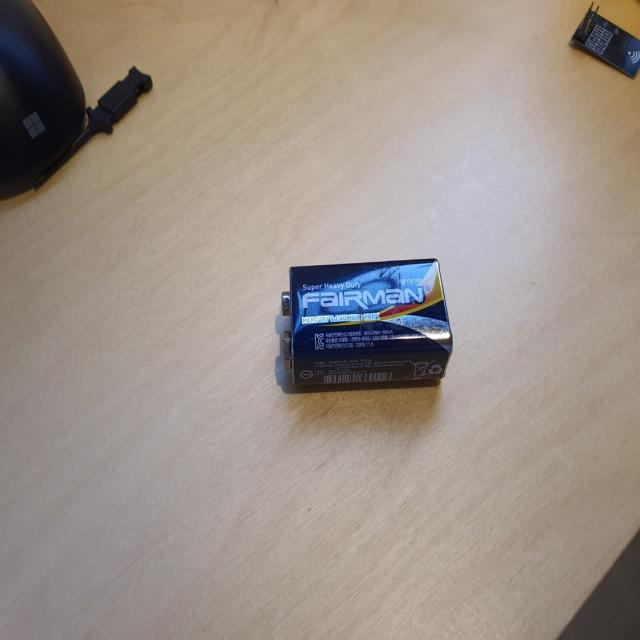battery-etc-etc: (266, 250, 459, 392)
